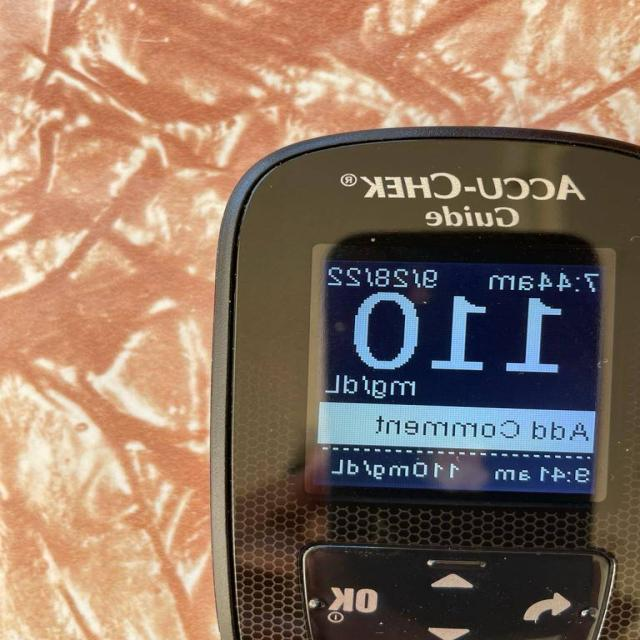gluco: (208, 128, 640, 639)
